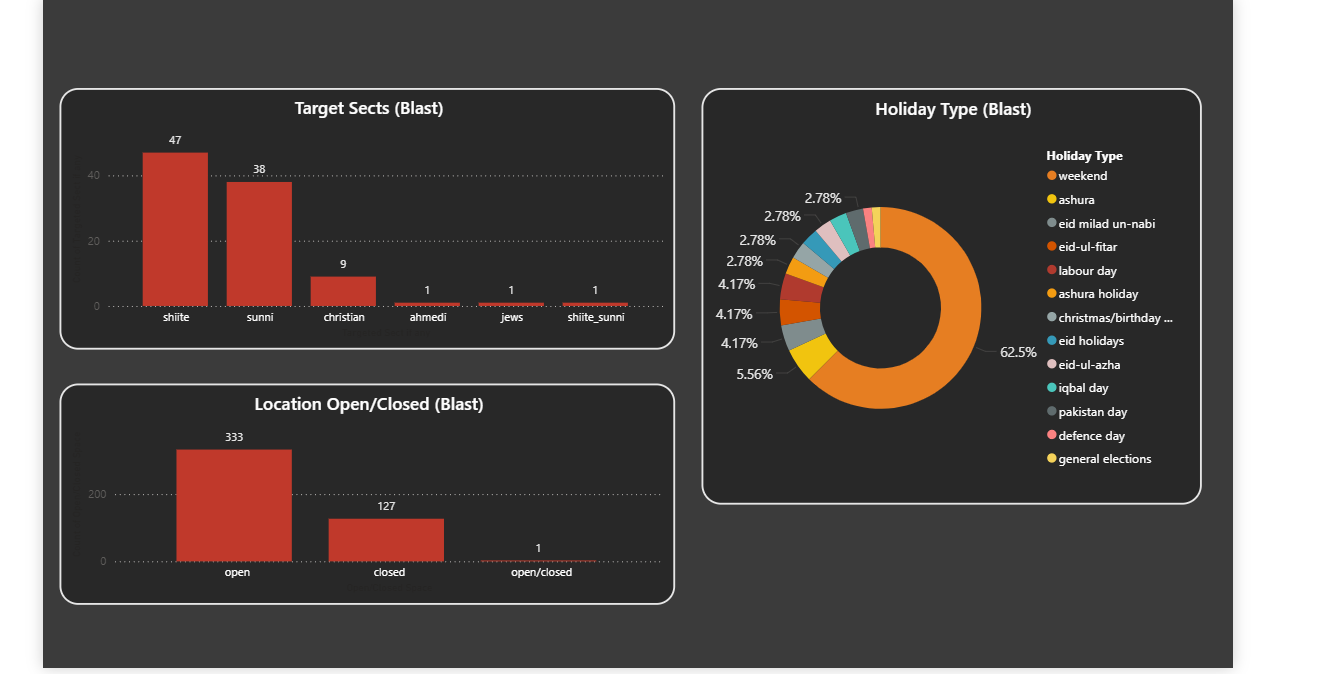

Layout of this report page (visuals, bound fields, positions):
{"tool":"powerbi","page":{"name":"Page 2","canvas":[1280,720],"ordinal":1},"visuals":[{"type":"columnChart","title":"Target Sects (Blast)","fields":{"Category":["cleaned_explosions.Targeted Sect if any"],"Y":["CountNonNull(cleaned_explosions.Targeted Sect if any)"]},"box":[17.2,96.6,662.1,281],"z":0},{"type":"donutChart","title":"Holiday Type (Blast)","fields":{"Y":["CountNonNull(cleaned_explosions.Holiday Type)"],"Category":["cleaned_explosions.Holiday Type"]},"box":[708.6,96.6,537.9,448.3],"z":1000},{"type":"clusteredColumnChart","title":"Location Open/Closed (Blast)","fields":{"Category":["cleaned_explosions.Open/Closed Space"],"Y":["CountNonNull(cleaned_explosions.Open/Closed Space)"]},"box":[17.2,413.8,662.1,237.9],"z":2000}]}

Visuals, with their boxes on the page's 1280x720 design canvas (x1, y1, x2, y2). These are canvas units, not pixel positions in the 1341x674 screenshot, which may show the page scaled, cropped or inside an application window:
"Target Sects (Blast)" columnChart: [17, 97, 679, 378]
"Holiday Type (Blast)" donutChart: [709, 97, 1246, 545]
"Location Open/Closed (Blast)" clusteredColumnChart: [17, 414, 679, 652]
